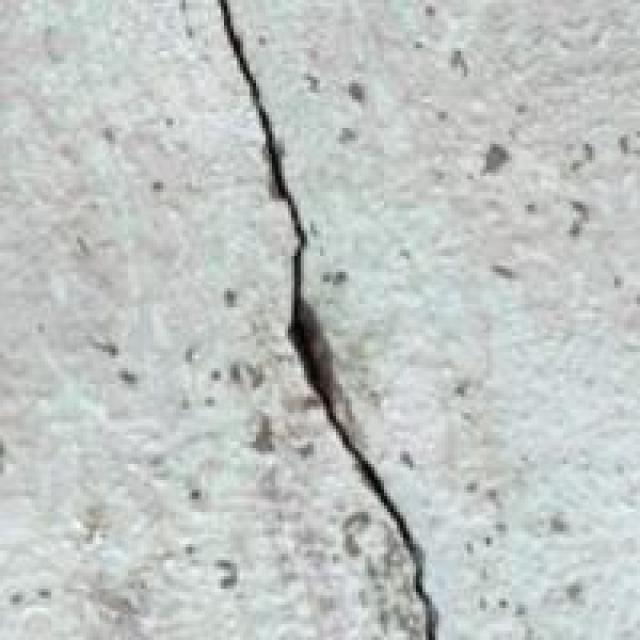Crack: (176, 0, 470, 637)
